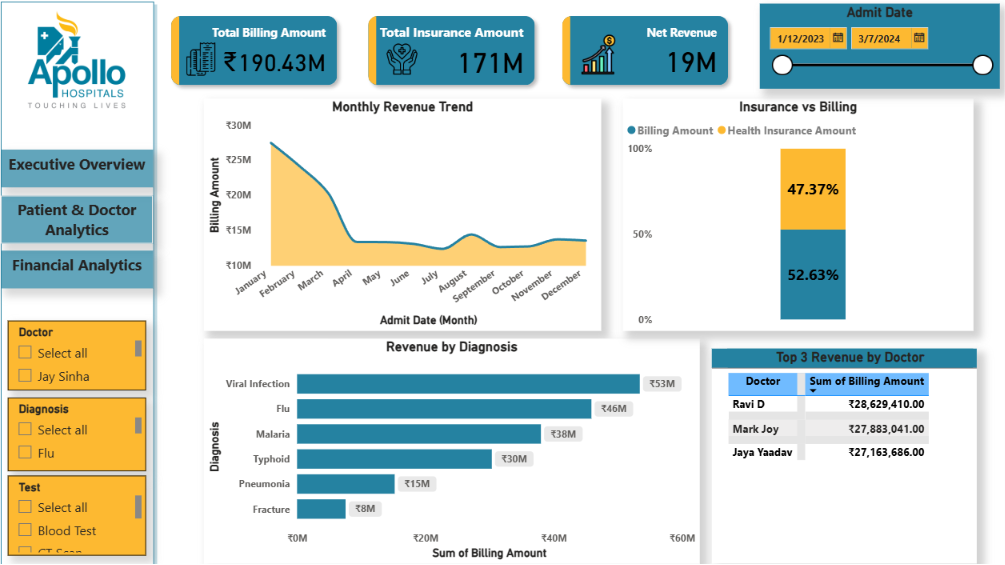

The dashboard page shown, as its layout file describes it:
{"tool":"powerbi","page":{"name":"Financial Analytics","canvas":[1280,720],"ordinal":2},"visuals":[{"type":"shape","box":[0,0,201.7,720],"z":0},{"type":"image","box":[5,5,190,145],"z":1000},{"type":"cardVisual","fields":{"Data":["Sum(Sheet1.Health Insurance Amount)"]},"box":[447.1,5.7,242.9,120],"z":2000},{"type":"cardVisual","fields":{"Data":["Sheet1.Net Revenue"]},"box":[690,5.7,241.4,120],"z":3000},{"type":"cardVisual","fields":{"Data":["Sum(Sheet1.Billing Amount)"]},"box":[201.4,5.7,241.4,120],"z":4000},{"type":"areaChart","title":"Monthly Revenue Trend ","fields":{"Y":["Sum(Sheet1.Billing Amount)"],"Category":["Sheet1.Admit_Date.Variation.Date Hierarchy.Month"]},"box":[258.6,125.7,497.1,290],"z":5000},{"type":"barChart","title":"Revenue by Diagnosis","fields":{"Category":["Sheet1.Diagnosis"],"Y":["Sum(Sheet1.Billing Amount)"]},"box":[258.6,425.7,620,281.4],"z":6000},{"type":"hundredPercentStackedColumnChart","title":"Insurance vs Billing","fields":{"Y":["Sum(Sheet1.Billing Amount)","Sum(Sheet1.Health Insurance Amount)"]},"box":[782.9,125.7,438.6,290],"z":7000},{"type":"tableEx","title":"Top 3 Revenue by Doctor","fields":{"Values":["Sheet1.Doctor","Sum(Sheet1.Billing Amount)"]},"box":[894.3,438.6,331.4,268.6],"z":8000},{"type":"slicer","title":"Admit Date","fields":{"Values":["Sheet1.Admit_Date"]},"box":[954.3,7.1,300,106],"z":9000},{"type":"textbox","box":[5.3,190,190,47.1],"z":10000},{"type":"textbox","box":[5.3,247.1,190,60],"z":11000},{"type":"textbox","box":[5.3,315.7,190,47.1],"z":12000},{"type":"actionButton","box":[5.3,247.1,190,60],"z":13000},{"type":"actionButton","box":[5.3,312.9,190,47.1],"z":14000},{"type":"actionButton","box":[5,190,171,47],"z":15000},{"type":"slicer","fields":{"Values":["Sheet1.Doctor"]},"box":[14.3,403.2,172.9,87.1],"z":16000},{"type":"slicer","fields":{"Values":["Sheet1.Diagnosis"]},"box":[14.2,499.4,173,92],"z":17000},{"type":"slicer","fields":{"Values":["Sheet1.Test"]},"box":[14.2,597.4,173,100],"z":18000},{"type":"image","box":[228.6,51.4,52.9,51.4],"z":19000},{"type":"image","box":[474.3,51.4,65.7,51.4],"z":20000},{"type":"image","box":[721.4,40,61.4,62.9],"z":21000}]}

Visuals, with their boxes in screenshot pixels (x1, y1, x2, y2), scaled from the page's 1280x720 canvas onto the 1005x565 screenshot:
shape: region(0, 0, 158, 564)
image: region(4, 4, 153, 118)
cardVisual - Sum(Sheet1.Health Insurance Amount): region(351, 4, 542, 99)
cardVisual - Sheet1.Net Revenue: region(542, 4, 731, 99)
cardVisual - Sum(Sheet1.Billing Amount): region(158, 4, 348, 99)
"Monthly Revenue Trend " areaChart: region(203, 99, 593, 326)
"Revenue by Diagnosis" barChart: region(203, 334, 690, 555)
"Insurance vs Billing" hundredPercentStackedColumnChart: region(615, 99, 959, 326)
"Top 3 Revenue by Doctor" tableEx: region(702, 344, 962, 555)
"Admit Date" slicer: region(749, 6, 985, 89)
textbox: region(4, 149, 153, 186)
textbox: region(4, 194, 153, 241)
textbox: region(4, 248, 153, 285)
actionButton: region(4, 194, 153, 241)
actionButton: region(4, 246, 153, 282)
actionButton: region(4, 149, 138, 186)
slicer - Sheet1.Doctor: region(11, 316, 147, 385)
slicer - Sheet1.Diagnosis: region(11, 392, 147, 464)
slicer - Sheet1.Test: region(11, 469, 147, 547)
image: region(179, 40, 221, 81)
image: region(372, 40, 424, 81)
image: region(566, 31, 615, 81)
